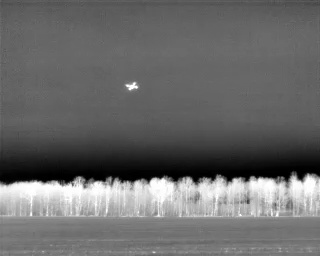DRONE: (122, 78, 143, 95)
